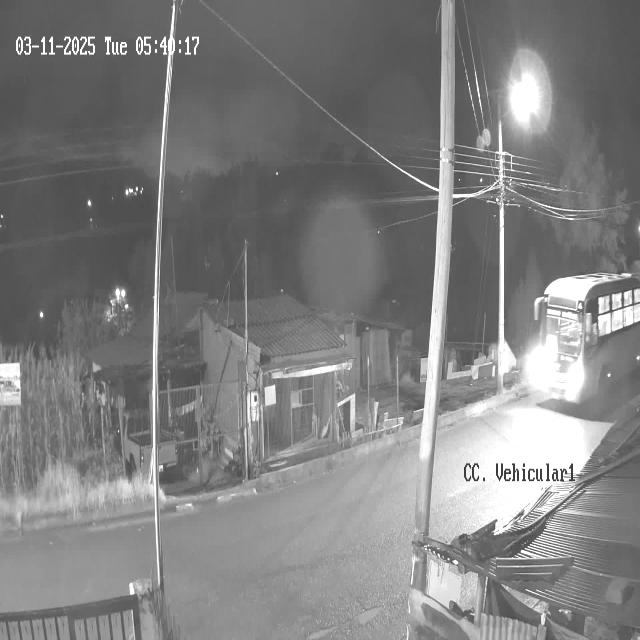BUS: (535, 274, 640, 416)
